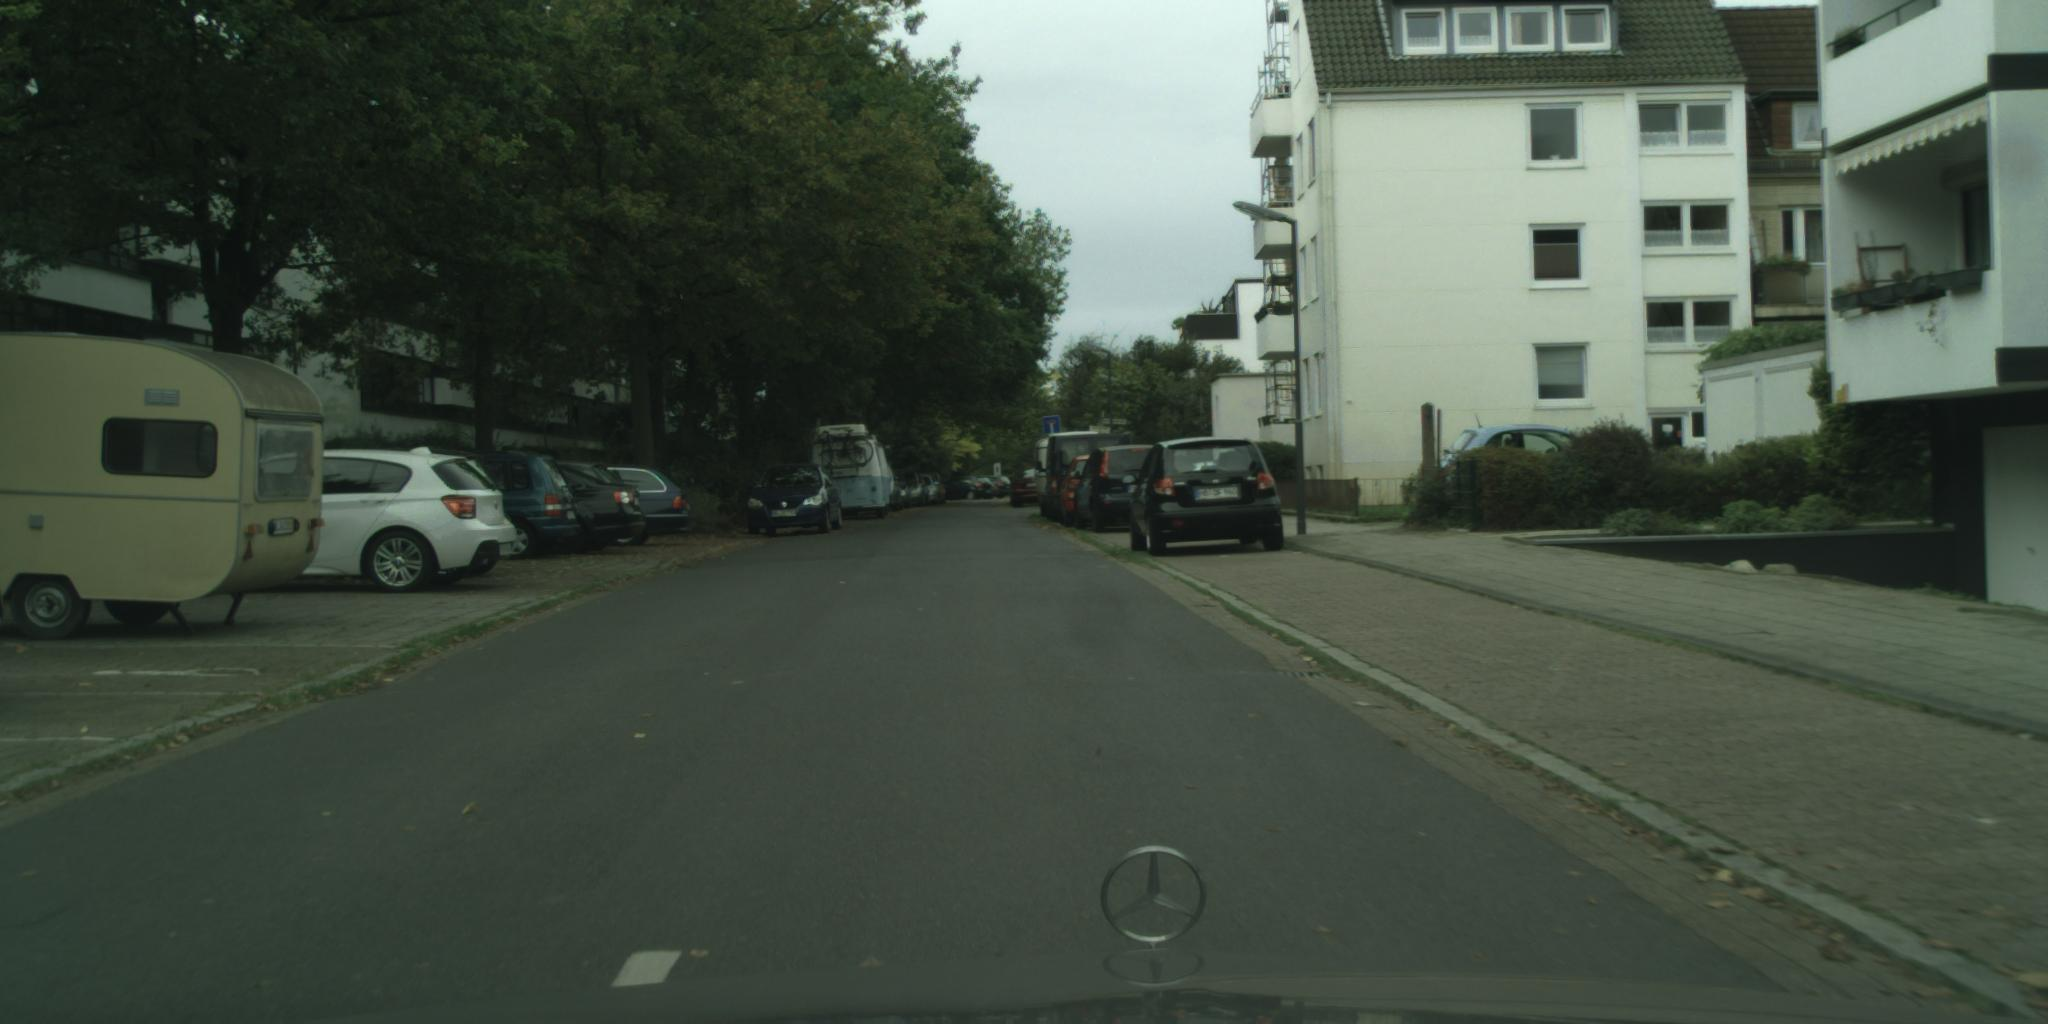car: (286, 447, 519, 594), (1122, 438, 1287, 556), (424, 455, 577, 564), (1433, 424, 1591, 504), (522, 466, 647, 562), (562, 468, 690, 552), (1070, 445, 1157, 534), (1040, 434, 1119, 526), (748, 466, 842, 537), (1061, 456, 1112, 530), (545, 462, 626, 502), (1037, 436, 1064, 517), (1011, 468, 1049, 511)
